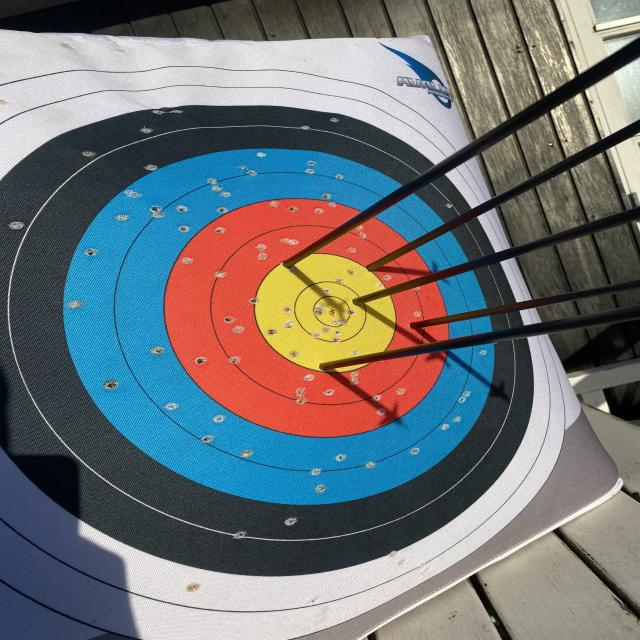Arrow_Red: (407, 310, 435, 336)
Arrow_Yellow: (304, 354, 356, 385), (354, 250, 394, 281), (280, 248, 314, 280), (343, 288, 376, 316)
